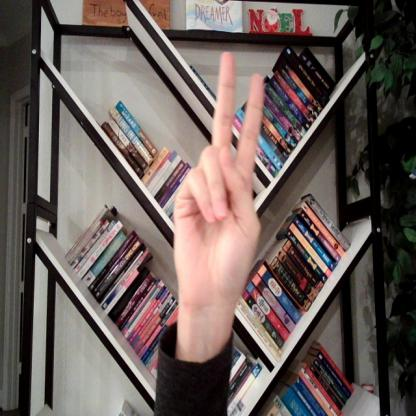two: (173, 50, 272, 306)
